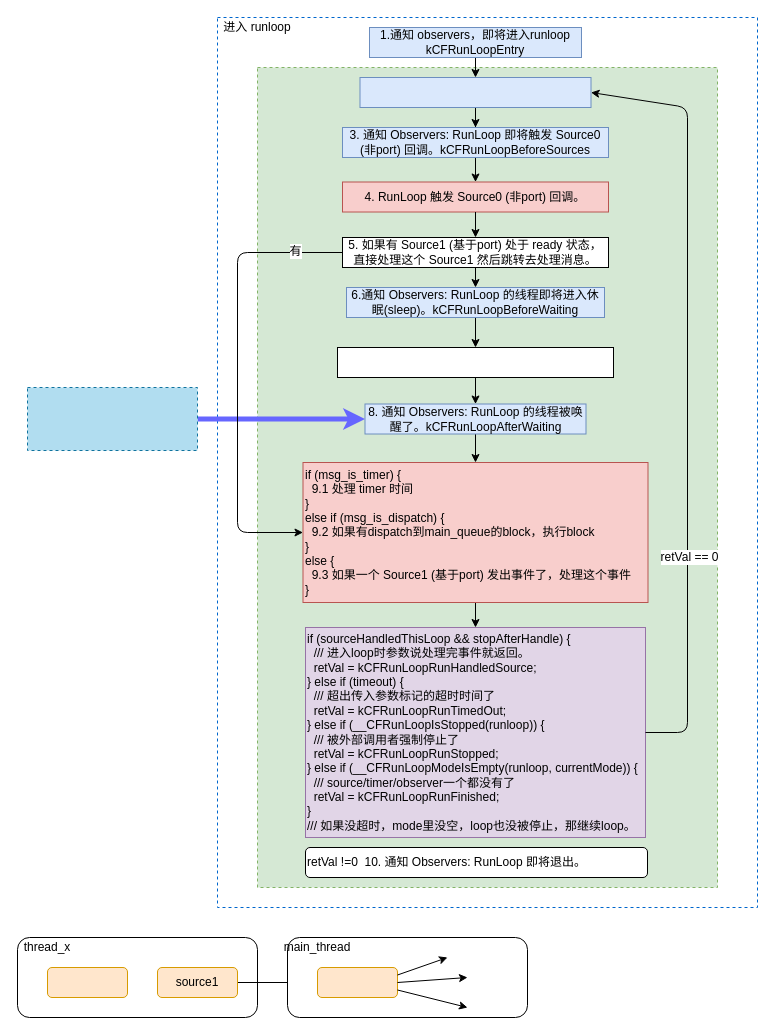
Image size: 775x1035. Some labels were removed from this diagram. The shapes that lost their labels are listed below. From the top down, each one's centre as x and y in pixels, then its label:
At [475,92]: "2. 通知 Observers: RunLoop 即将触发 Timer 回调。kCFRunLoopBeforeTimers".
At [475,362]: "7. 调用 mach_msg 等待接受 mach_port 的消息。线程将进入休眠, 直到被下面某一个事件唤醒。".
At [112,418]: "1. source1(port) 有事件发生 2.Timer 定时 3.外部手动唤醒 4.超时".
At [87,982]: "mach_port".
At [357,982]: "source0".
